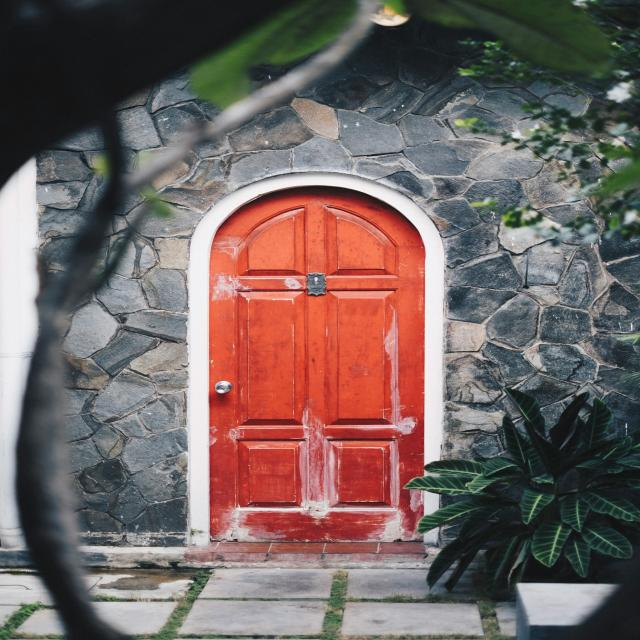door-knob: (214, 381, 232, 394)
